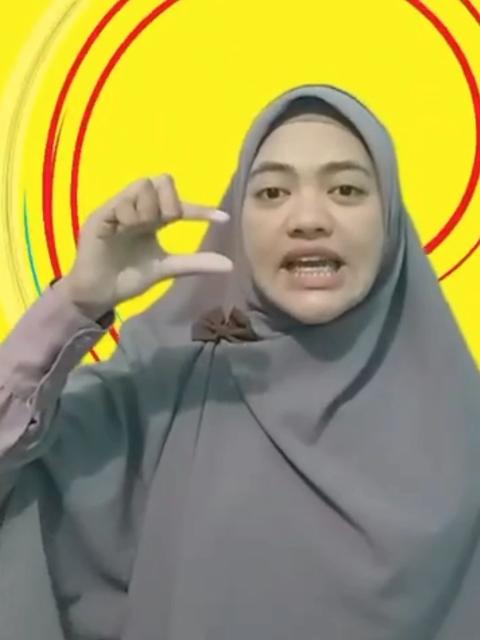G: (62, 172, 238, 306)
